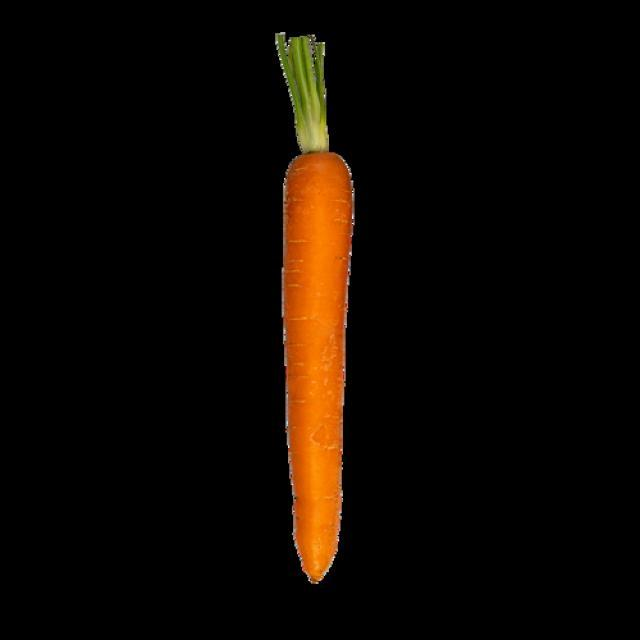Carrot: (276, 152, 369, 584)
